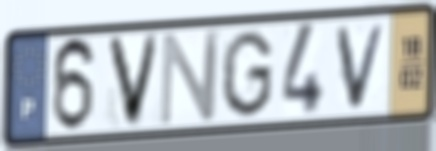4: (279, 19, 327, 122)
6: (50, 34, 102, 138)
G: (218, 27, 276, 120)
N: (157, 26, 223, 129)
V: (103, 31, 164, 131), (334, 20, 391, 112)
